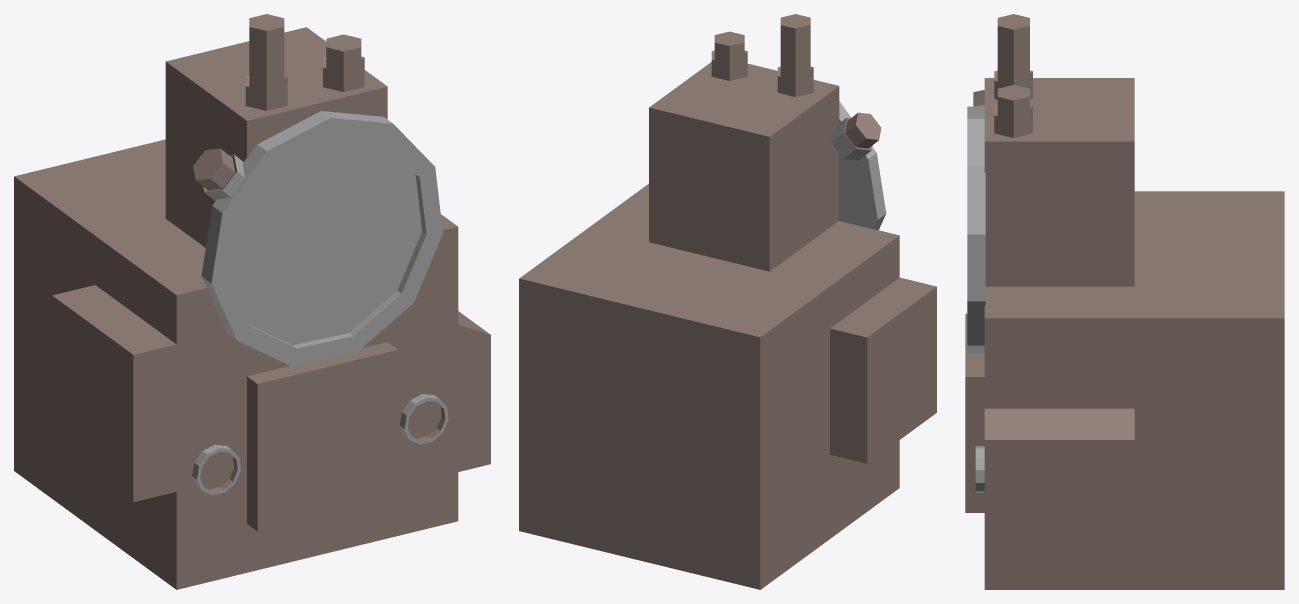
File: voltagebox.fbx
3 renders of one model, left to right at view 1: azimuth 30°, elevation 25°; view 2: azimuth 150°, elevation 25°; view 3: azimuth 270°, elevation 25°, orthographic. The views are drawn at different scales.
Parts seen in each view (by area): view 1: pCube12; view 2: pCube12; view 3: pCube12.
Boxes of the visible parts, x1=… form: pCube12: x1=14, y1=14, x2=490, y2=589; pCube12: x1=519, y1=14, x2=936, y2=589; pCube12: x1=965, y1=14, x2=1284, y2=589.
Bounding box in the file's own units: 33.1 × 46.91 × 27.76.
